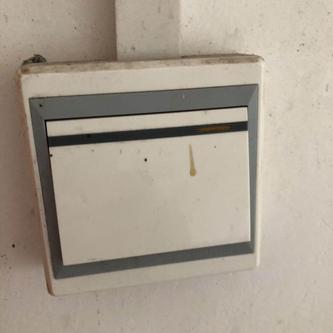switch: (43, 118, 258, 255)
